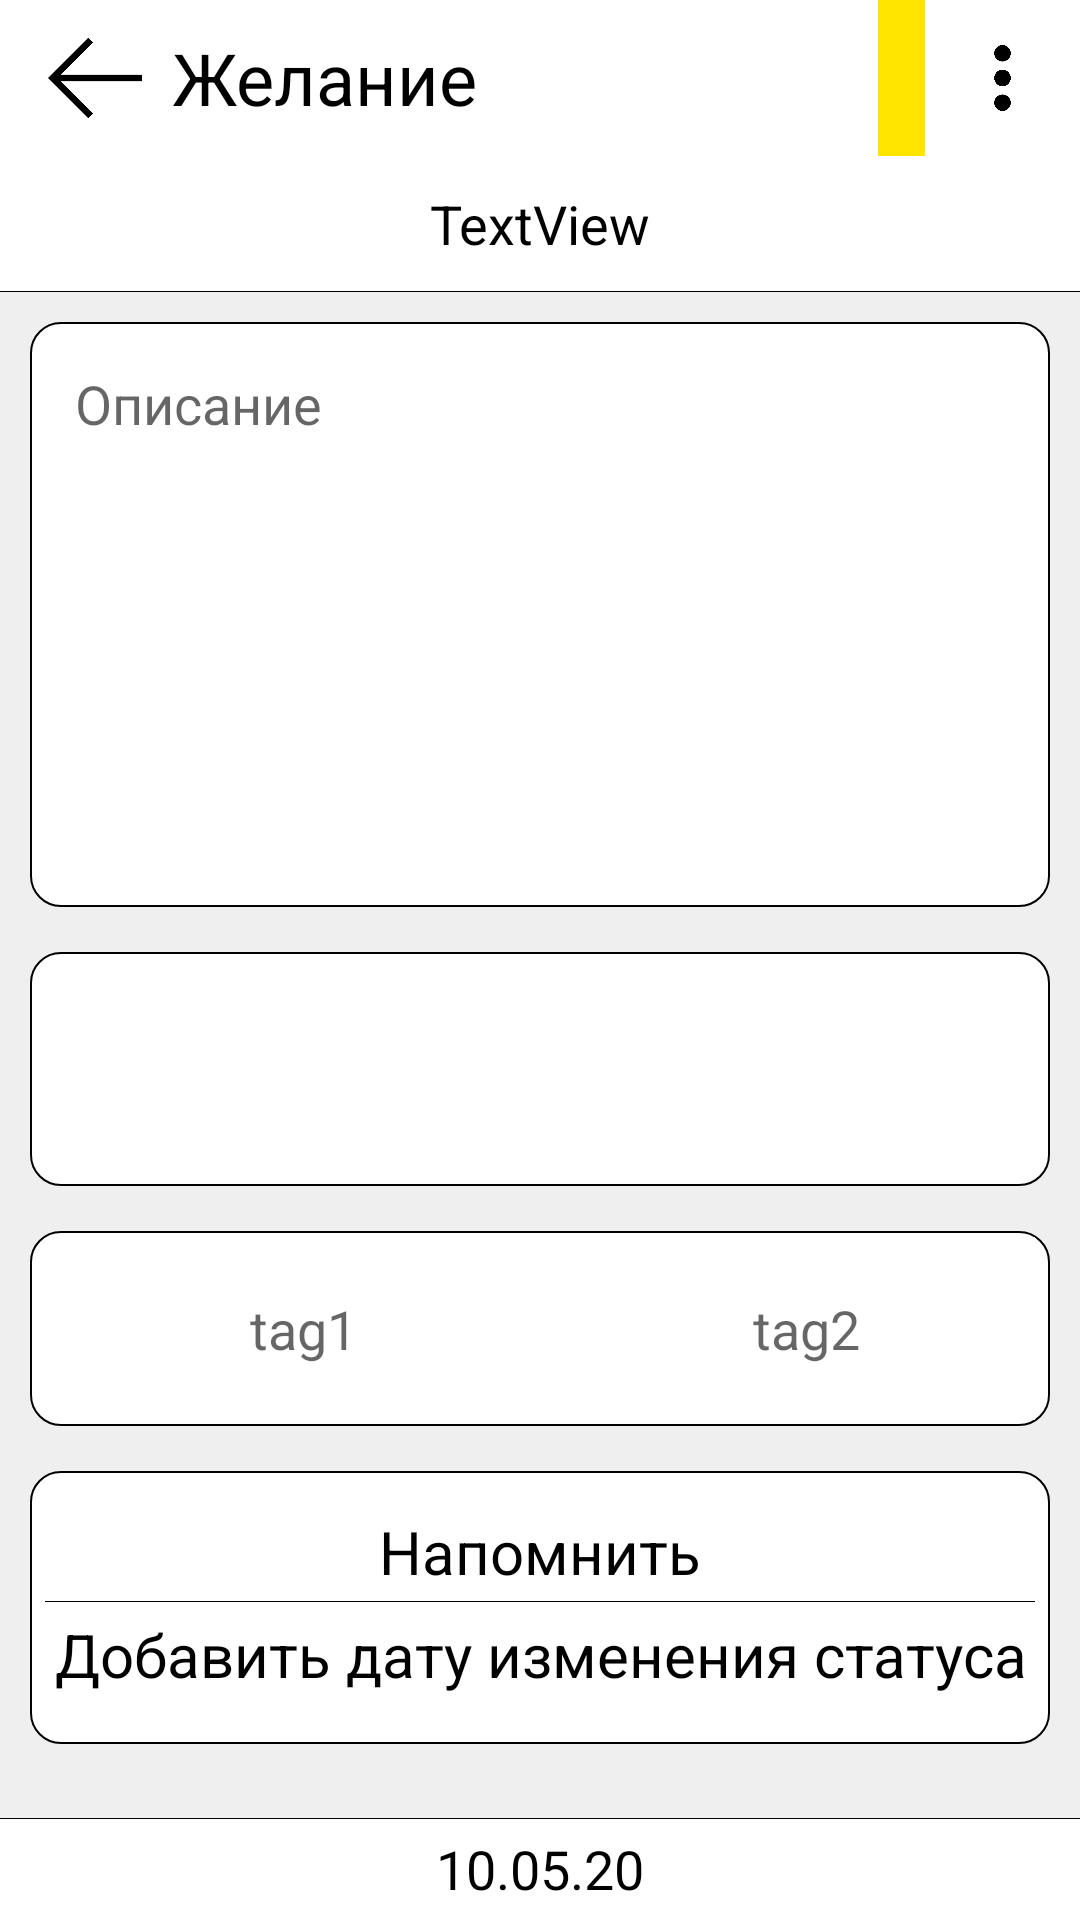

Named icons in this screenshot (1080×1920) and their centers, (x,y):
back: (95,78)
